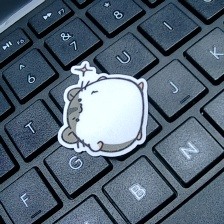mouse: (58, 59, 152, 159)
